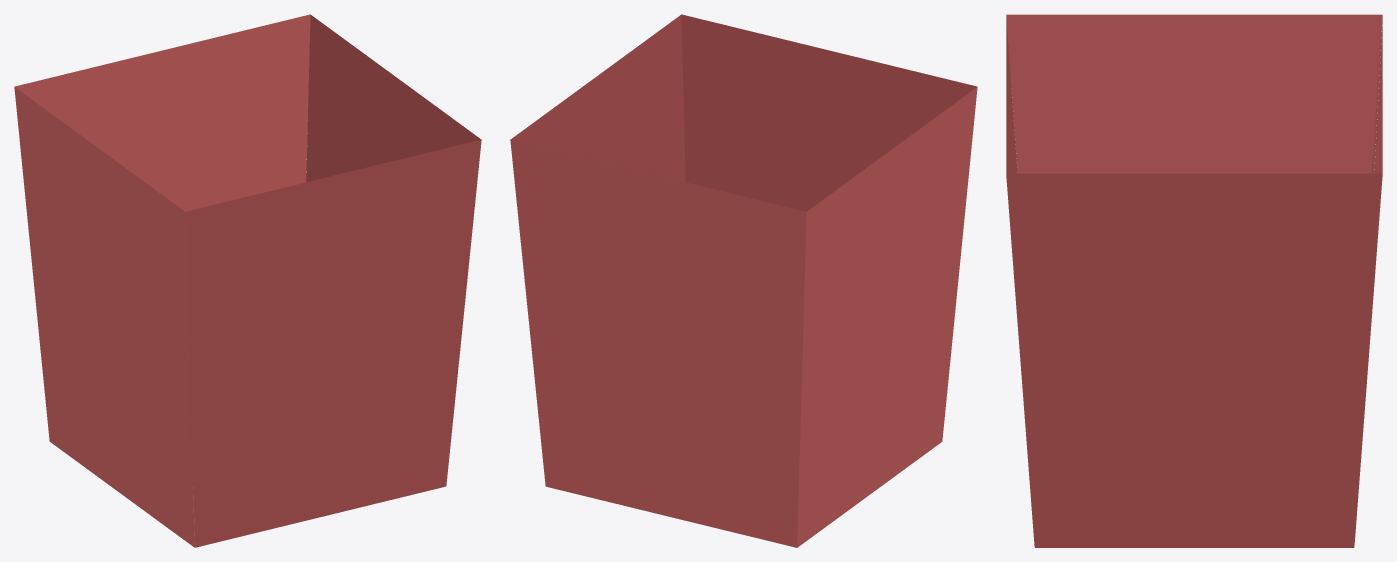
Rendered from col_ex_mario.glb.
The picture shows the model from 3 angles, left to right: view 1: azimuth 30°, elevation 25°; view 2: azimuth 150°, elevation 25°; view 3: azimuth 270°, elevation 25°; orthographic projection. The views are drawn at different scales.
Visible parts, largest first — view 1: ex_mario_col; view 2: ex_mario_col; view 3: ex_mario_col.
Part boxes in pixels (x1=…): ex_mario_col: x1=14, y1=14, x2=481, y2=547; ex_mario_col: x1=510, y1=14, x2=977, y2=547; ex_mario_col: x1=1006, y1=14, x2=1382, y2=547.
Bounding box in the file's own units: 10.61 × 12.02 × 10.6.
